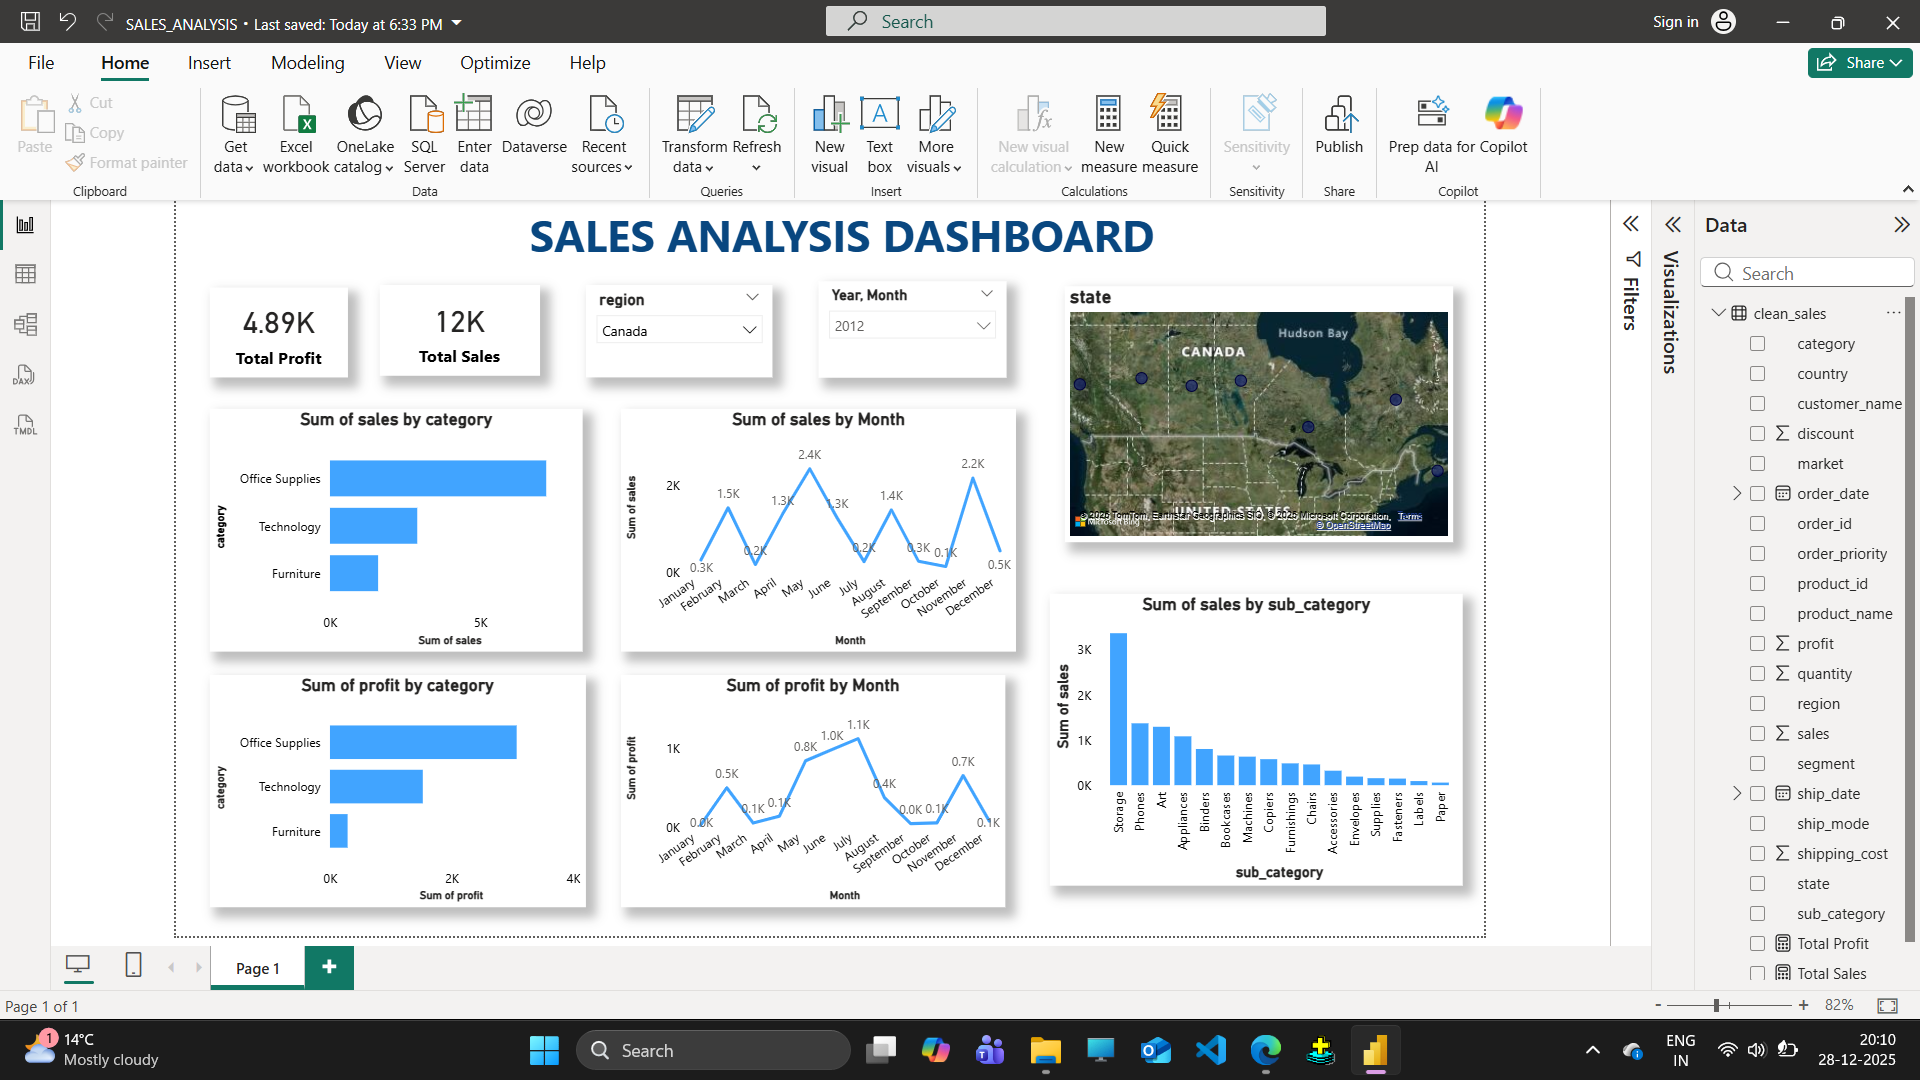

What the dashboard file says about the page in this screenshot:
{"tool":"powerbi","page":{"name":"Page 1","canvas":[1280,720],"ordinal":0},"visuals":[{"type":"card","fields":{"Values":["clean_sales.Total Sales"]},"box":[199,83.7,156.4,89.2],"z":0},{"type":"card","fields":{"Values":["clean_sales.Total Profit"]},"box":[32.4,85.2,135.2,87.9],"z":1000},{"type":"clusteredBarChart","fields":{"Y":["Sum(clean_sales.sales)"],"Category":["clean_sales.category"]},"box":[32.4,204.1,365,237.9],"z":2000},{"type":"lineChart","fields":{"Y":["Sum(clean_sales.sales)"],"Category":["clean_sales.order_date.Variation.Date Hierarchy.Month"]},"box":[435.3,204.1,386.7,237.9],"z":3000},{"type":"slicer","fields":{"Values":["clean_sales.region"]},"box":[400.7,83.7,182.5,90.6],"z":4000},{"type":"map","fields":{"Category":["clean_sales.state"]},"box":[869.3,83.8,379.9,250.1],"z":5000},{"type":"slicer","fields":{"Values":["clean_sales.order_date.Variation.Date Hierarchy.Year","clean_sales.order_date.Variation.Date Hierarchy.Month"]},"box":[628.5,79.6,183.9,94.7],"z":6000},{"type":"columnChart","fields":{"Y":["Sum(clean_sales.sales)"],"Category":["clean_sales.sub_category"]},"box":[854.4,385.3,404.2,285.3],"z":7000},{"type":"barChart","fields":{"Y":["Sum(clean_sales.profit)"],"Category":["clean_sales.category"]},"box":[32.4,465.1,367.7,227.1],"z":8000},{"type":"lineChart","fields":{"Y":["Sum(clean_sales.profit)"],"Category":["clean_sales.order_date.Variation.Date Hierarchy.Month"]},"box":[435.3,465.1,375.8,227.1],"z":9000},{"type":"textbox","box":[148.7,0,1004.5,68.9],"z":10000}]}

Visuals, with their boxes on the page's 1280x720 design canvas (x1, y1, x2, y2). These are canvas units, not pixel positions in the 1920x1080 screenshot, which may show the page scaled, cropped or inside an application window:
card - clean_sales.Total Sales: <bbox>199, 84, 355, 173</bbox>
card - clean_sales.Total Profit: <bbox>32, 85, 168, 173</bbox>
clusteredBarChart - Sum(clean_sales.sales) x clean_sales.category: <bbox>32, 204, 397, 442</bbox>
lineChart - Sum(clean_sales.sales) x clean_sales.order_date.Variation.Date Hierarchy.Month: <bbox>435, 204, 822, 442</bbox>
slicer - clean_sales.region: <bbox>401, 84, 583, 174</bbox>
map - clean_sales.state: <bbox>869, 84, 1249, 334</bbox>
slicer - clean_sales.order_date.Variation.Date Hierarchy.Year x clean_sales.order_date.Variation.Date Hierarchy.Month: <bbox>628, 80, 812, 174</bbox>
columnChart - Sum(clean_sales.sales) x clean_sales.sub_category: <bbox>854, 385, 1259, 671</bbox>
barChart - Sum(clean_sales.profit) x clean_sales.category: <bbox>32, 465, 400, 692</bbox>
lineChart - Sum(clean_sales.profit) x clean_sales.order_date.Variation.Date Hierarchy.Month: <bbox>435, 465, 811, 692</bbox>
textbox: <bbox>149, 0, 1153, 69</bbox>
